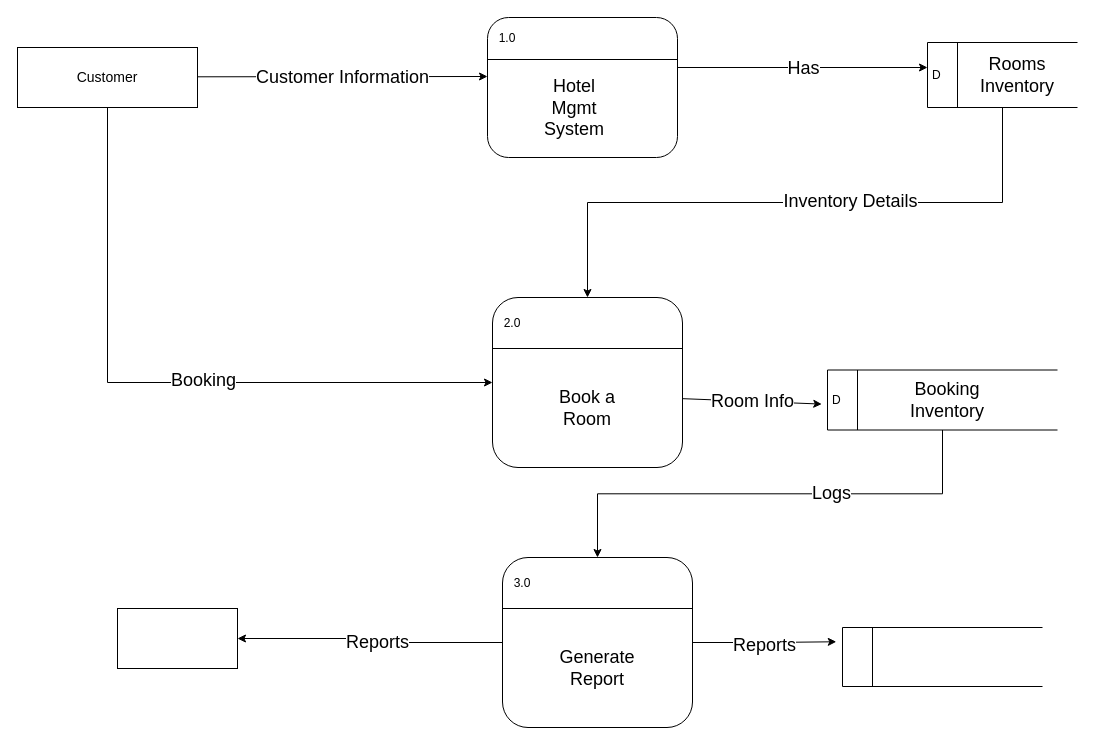
Image size: 1095x745. Some labels were removed from this diagram. The centre of each missing label's shape, as x and y in pixels:
Manager: point 177,638
Report Inventory: point 942,656
